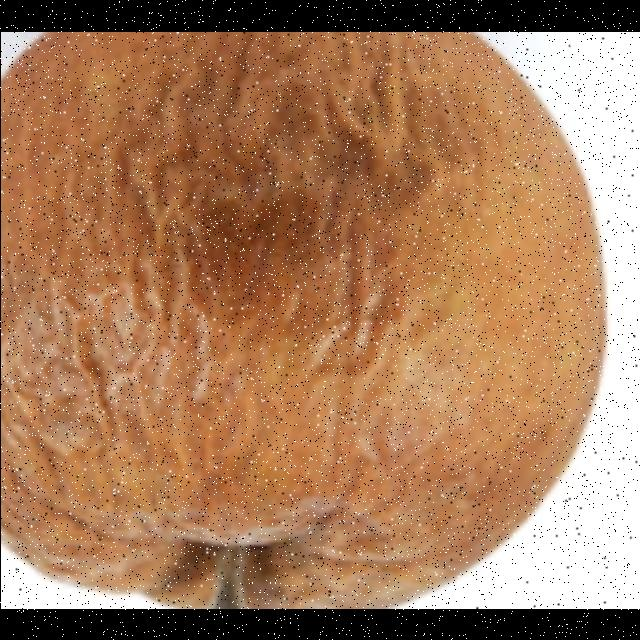Apel Tidak Segar: (1, 31, 622, 608)
